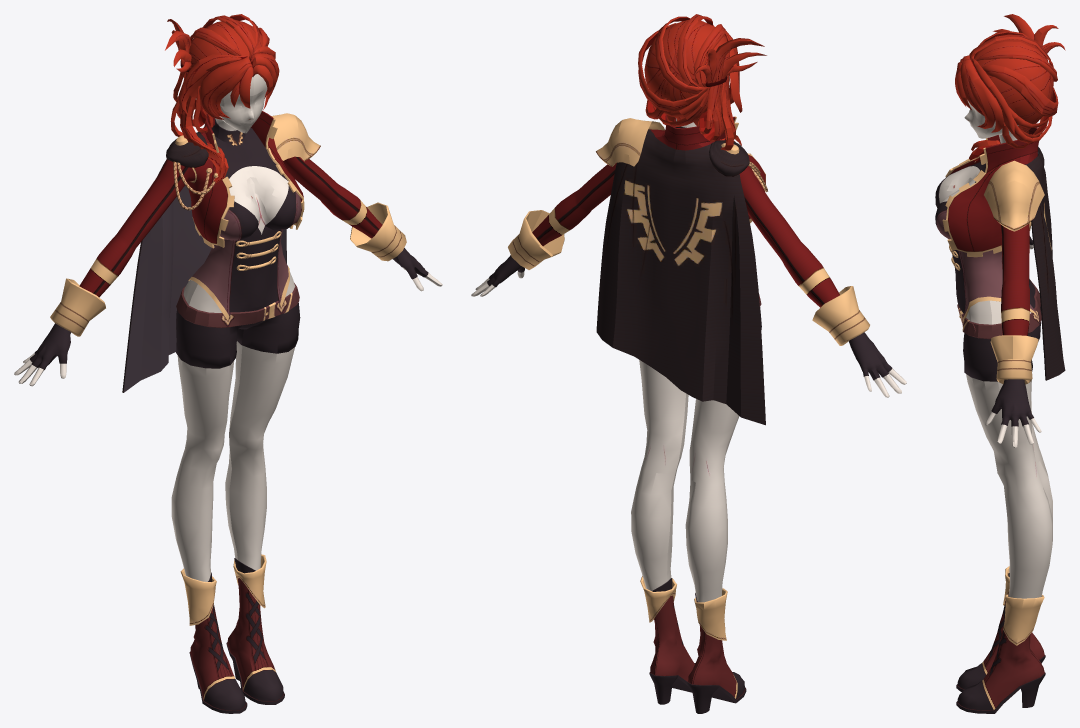
The picture shows the model from 3 angles, left to right: view 1: azimuth 30°, elevation 25°; view 2: azimuth 150°, elevation 25°; view 3: azimuth 270°, elevation 25°; orthographic projection. The views are drawn at different scales.
Parts seen in each view (by area): view 1: Body004, Hair_a, Face003; view 2: Body004, Hair_a; view 3: Body004, Hair_a, Face003.
Boxes of the visible parts, <box> form: Body004: <box>14,111,442,713</box>; Hair_a: <box>165,14,279,183</box>; Face003: <box>195,74,267,133</box>; Body004: <box>471,111,906,713</box>; Hair_a: <box>638,14,766,150</box>; Body004: <box>935,127,1065,713</box>; Hair_a: <box>955,14,1065,161</box>; Face003: <box>964,100,1018,138</box>.
Bounding box in the file's own units: 1.17 × 1.79 × 0.3192.
Materials: 4 (4 with a texture image).
